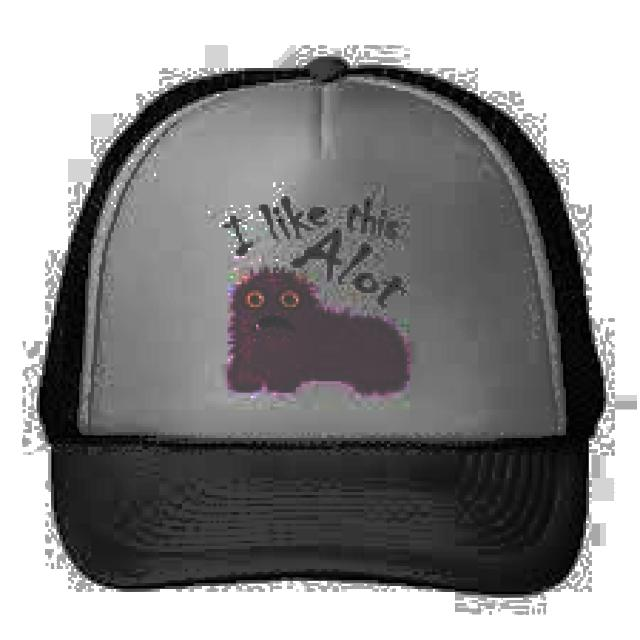TOPI: (28, 42, 603, 592)
